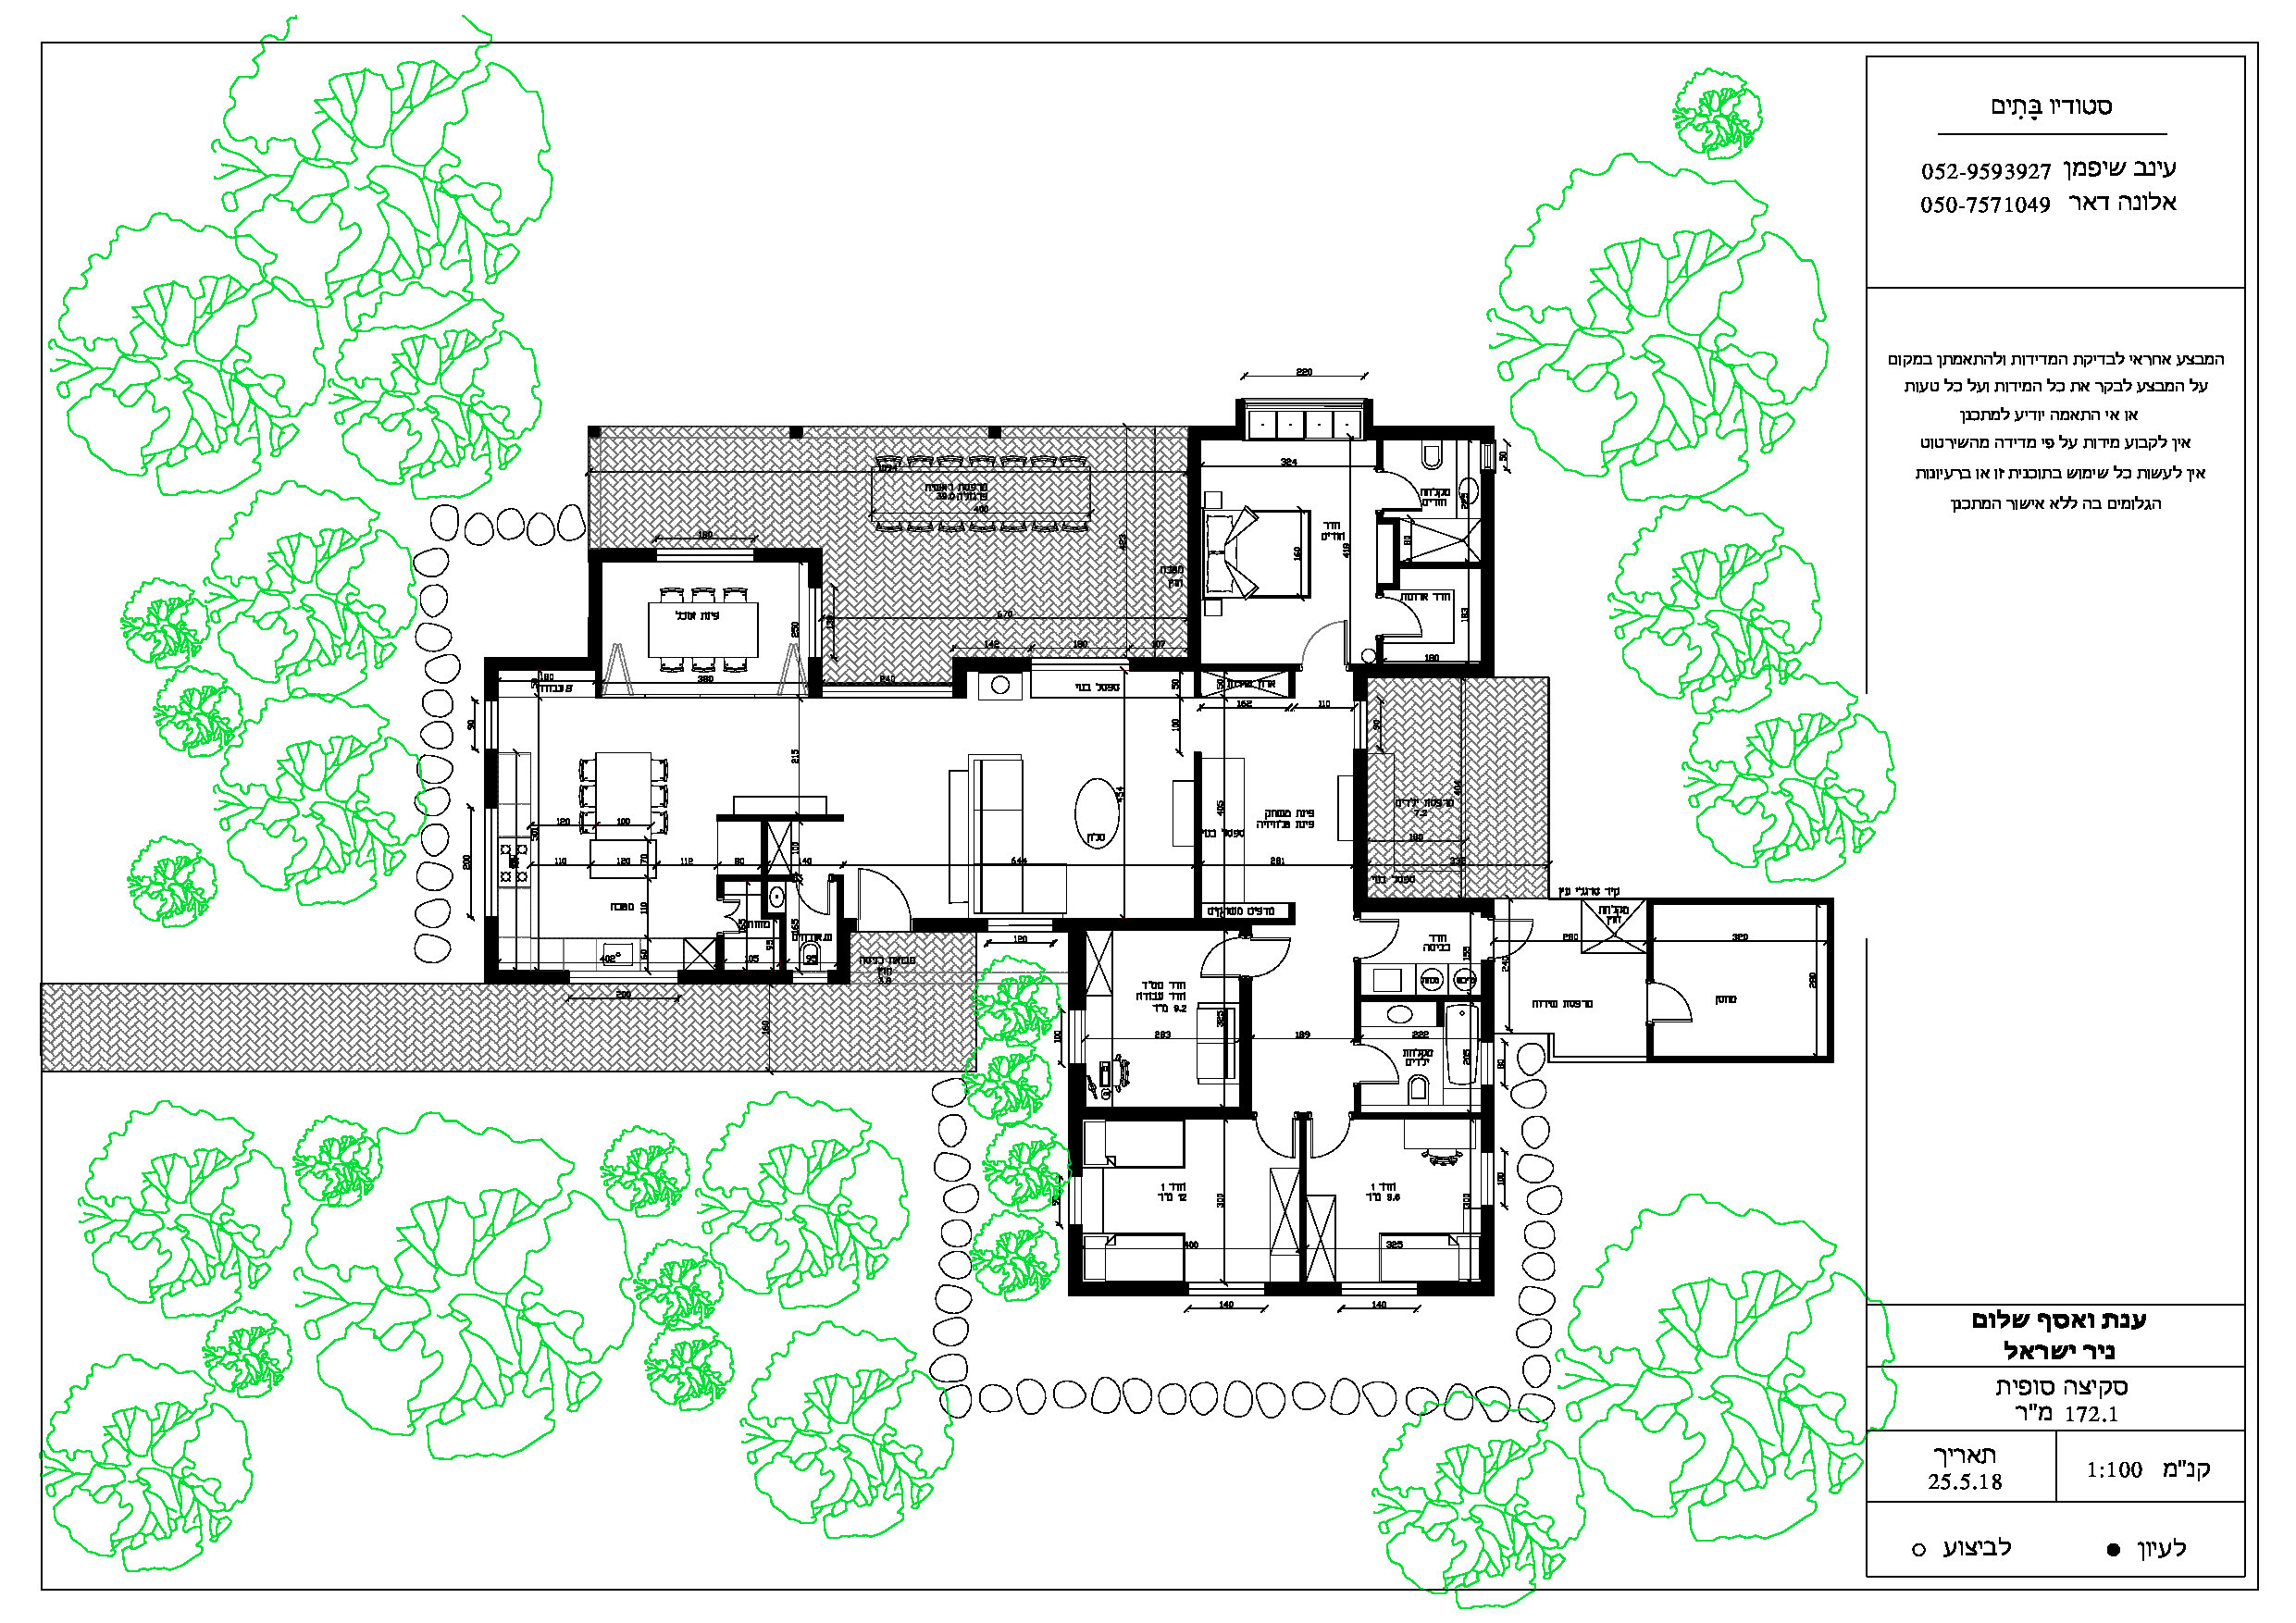door: (854, 866, 919, 917), (1379, 595, 1435, 643), (1298, 617, 1353, 662), (1384, 467, 1439, 513), (1657, 978, 1702, 1026), (1253, 934, 1298, 980), (1495, 917, 1541, 963), (1365, 1042, 1409, 1089), (1363, 915, 1407, 963), (1196, 934, 1240, 982), (1307, 1121, 1353, 1161), (791, 882, 834, 922), (1253, 1122, 1298, 1161), (727, 896, 745, 938)
window: (485, 808, 499, 919), (1031, 655, 1130, 671), (657, 548, 754, 564), (1188, 1280, 1265, 1296), (1342, 1280, 1418, 1296), (987, 917, 1054, 934), (808, 587, 822, 657), (1479, 1151, 1495, 1205), (1070, 1010, 1086, 1063), (1068, 1175, 1084, 1226), (1353, 703, 1367, 748), (1479, 1042, 1493, 1087), (485, 703, 497, 750)
